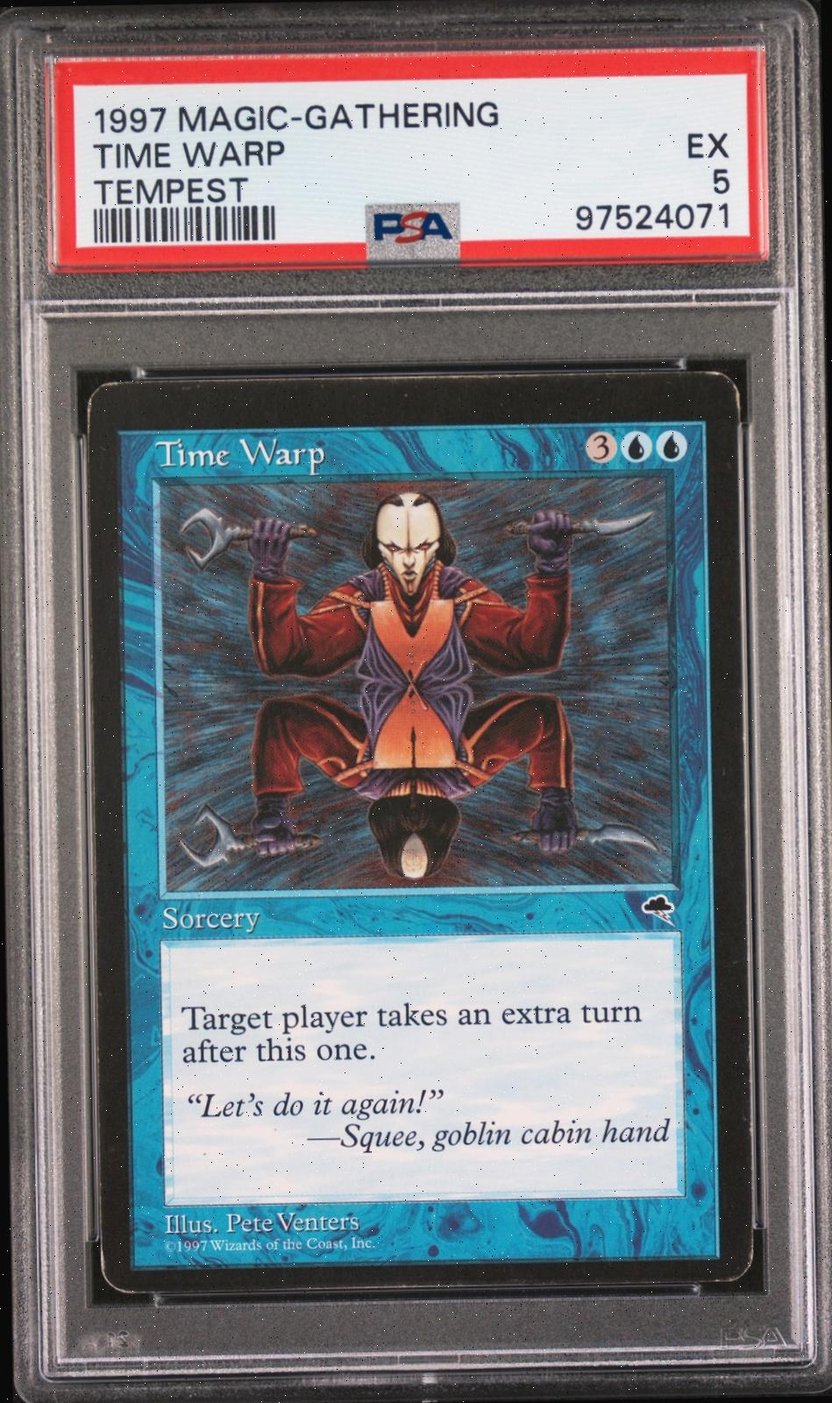card-2UtV: (86, 371, 753, 1293)
